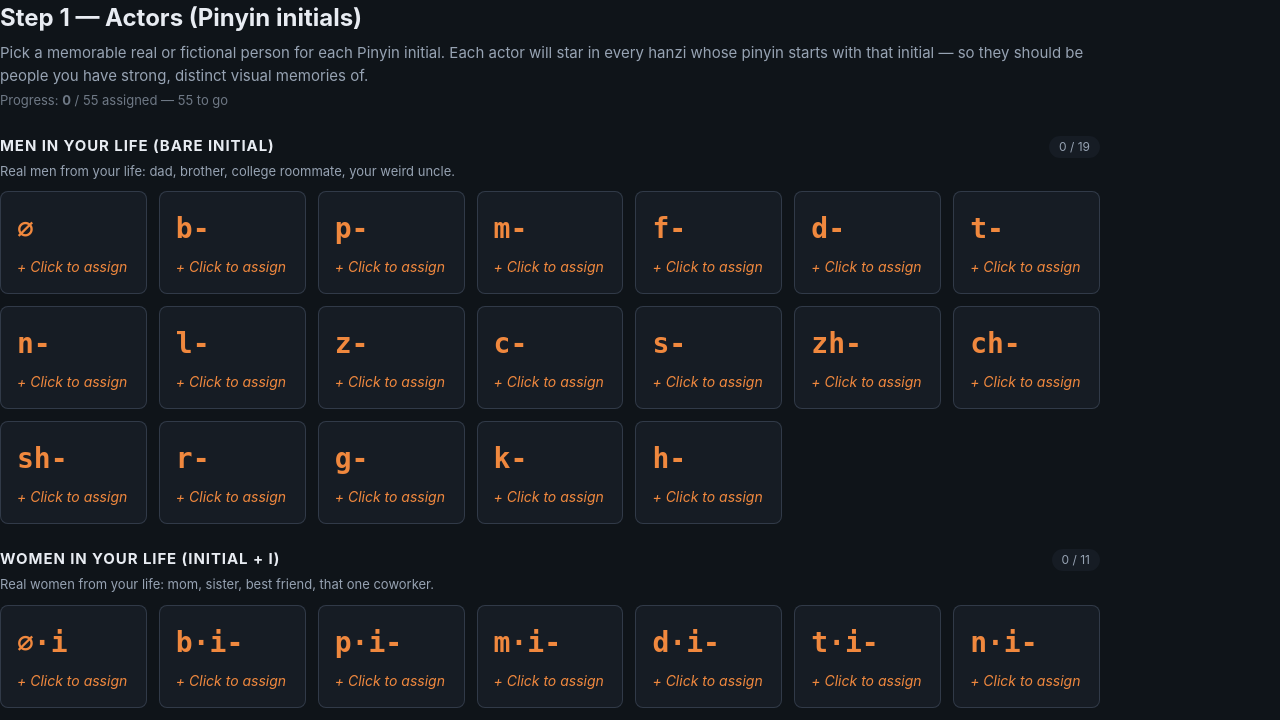
Test: ActorsWizard integration › Esc dismisses the dialog without saving
The image size is (1280, 720).
Click the button with test id "initial-card-b" at (232, 242), box x1=159 y1=191 x2=306 y2=294
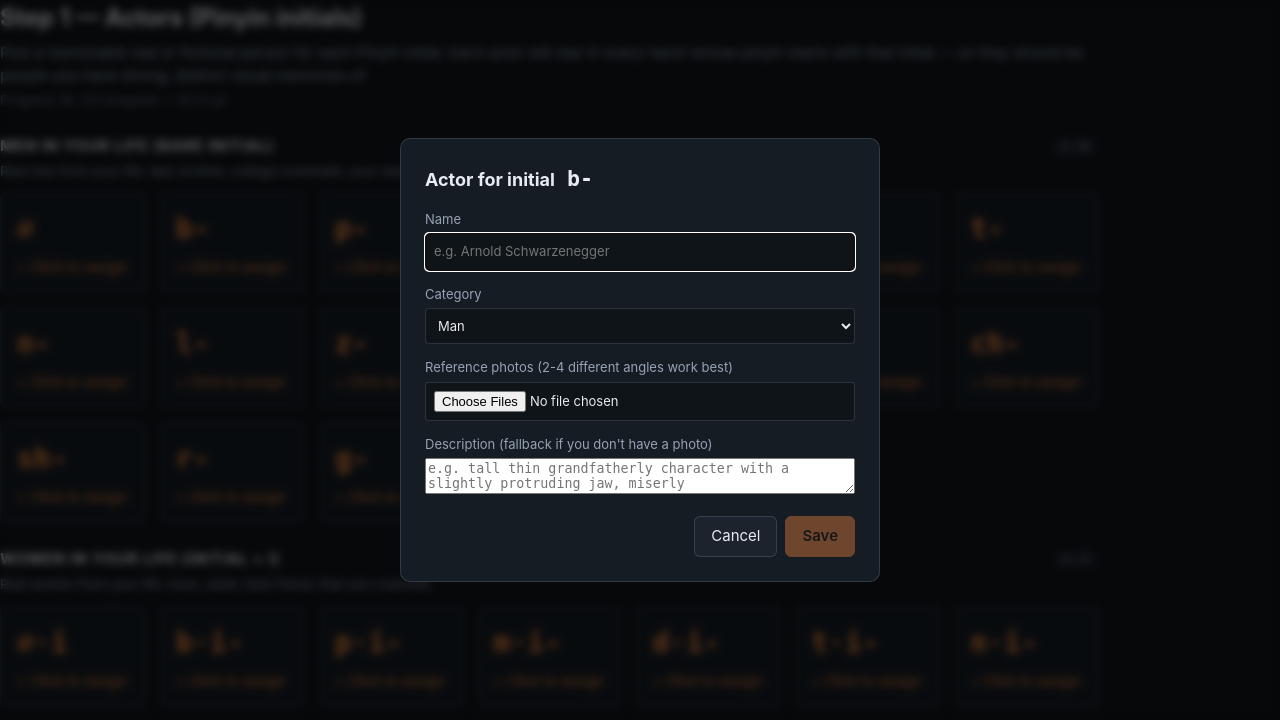
Result: the field with test id "actor-name-input" is shown at x1=425 y1=233 x2=855 y2=271
Press Escape
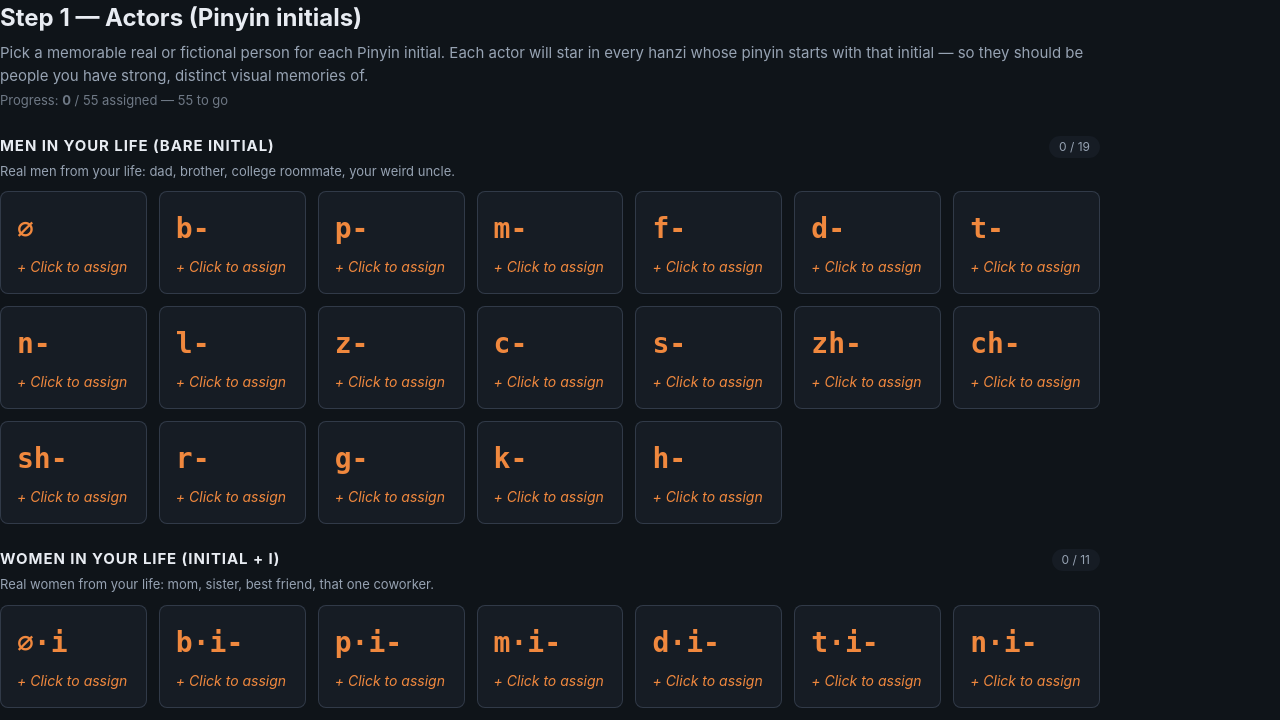
Expected: the button with test id "initial-card-b" shows "Click to assign", x1=159 y1=191 x2=306 y2=294
Result: the field with test id "actor-name-input" is gone
